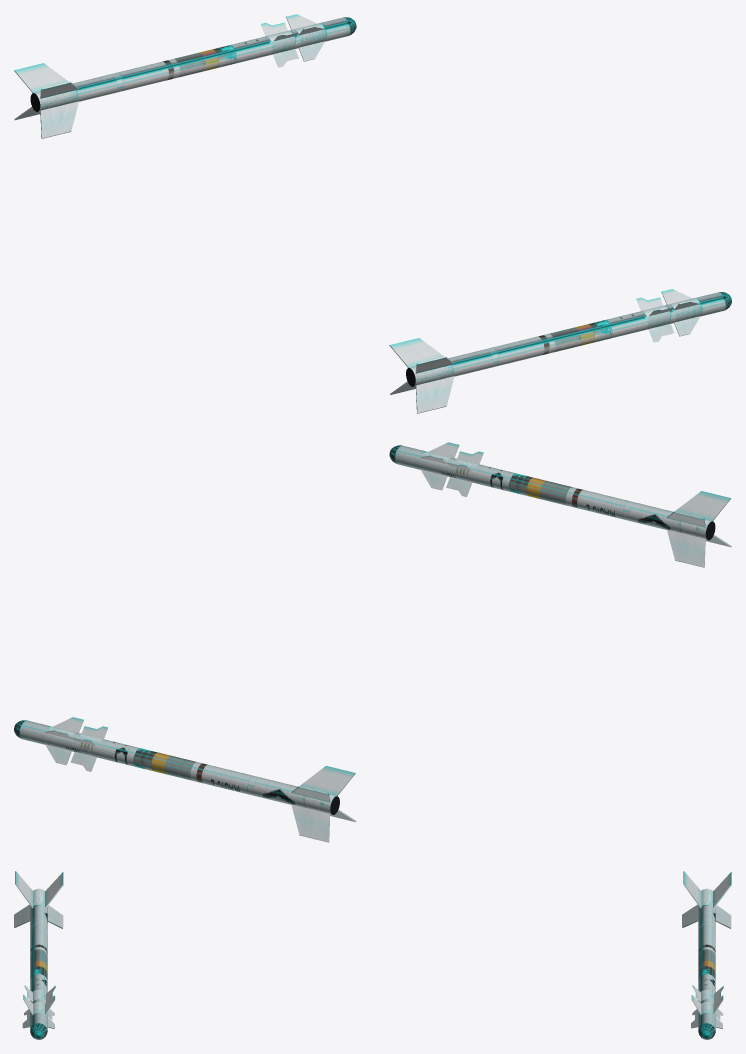
The picture shows the model from 3 angles, top to bottom: view 1: azimuth 30°, elevation 25°; view 2: azimuth 150°, elevation 25°; view 3: azimuth 270°, elevation 25°; orthographic projection. The views are drawn at different scales.
Parts seen in each view (by area): view 1: 立方体.001, 立方体.017; view 2: 立方体.017, 立方体.001; view 3: 立方体.017, 立方体.001.
Part boxes in pixels (x1,y1,x2,y2): 立方体.001: [14, 14, 356, 138]; 立方体.017: [389, 289, 731, 413]; 立方体.017: [389, 442, 731, 567]; 立方体.001: [14, 717, 356, 842]; 立方体.017: [14, 871, 63, 1039]; 立方体.001: [682, 871, 731, 1039].
Bounding box in the file's own units: 3.19 × 0.4709 × 6.78.
Materials: 2 (2 with a texture image).
